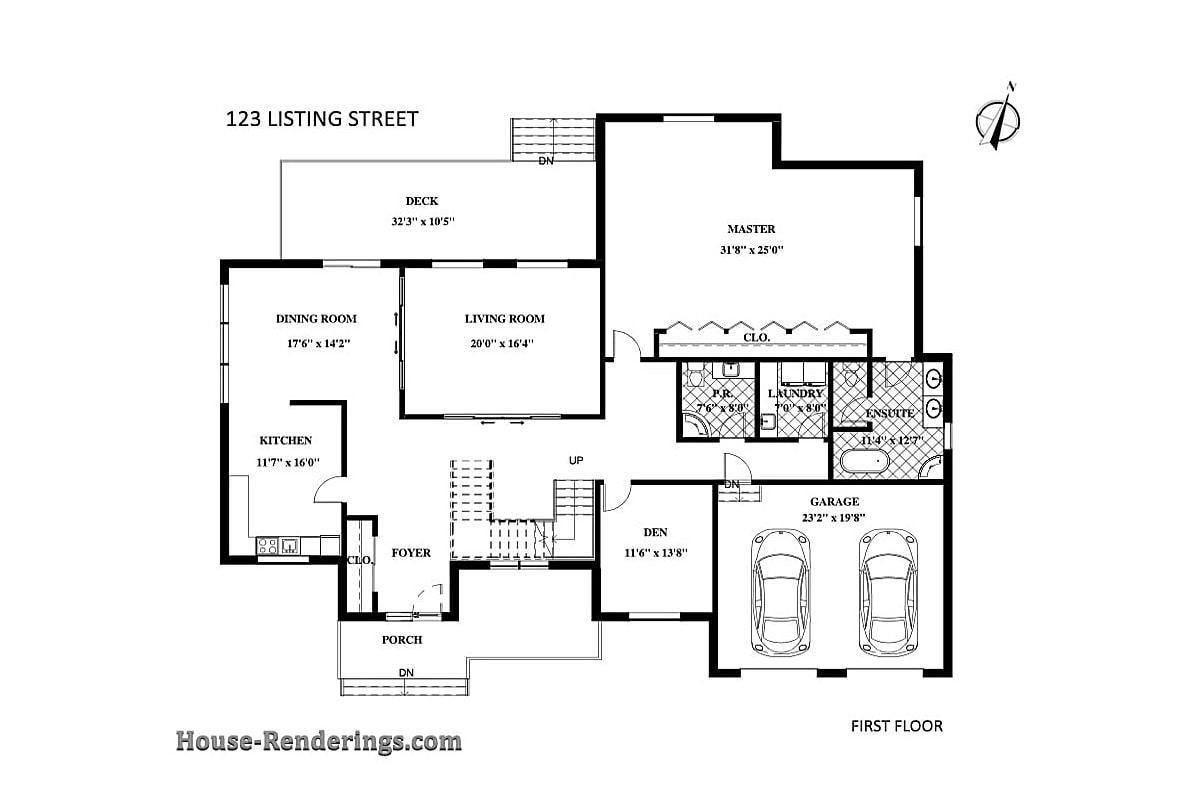room: (599, 114, 920, 359), (226, 264, 402, 559), (403, 263, 603, 416), (598, 481, 714, 615), (832, 360, 947, 482), (679, 360, 757, 440), (757, 361, 830, 439)
